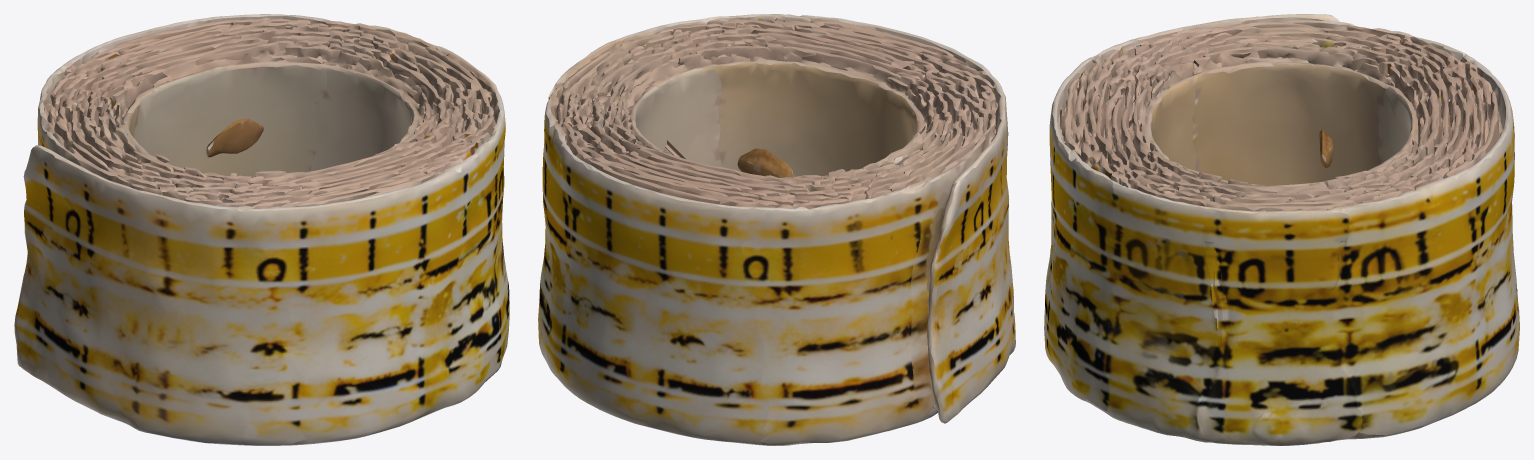
The model's file is simon.glb.
3 views of the same model, side by side, from view 1: azimuth 30°, elevation 25°; view 2: azimuth 150°, elevation 25°; view 3: azimuth 270°, elevation 25° (orthographic).
Parts seen in each view (by area): view 1: tmpvfwqe6b2.ply; view 2: tmpvfwqe6b2.ply; view 3: tmpvfwqe6b2.ply.
Part boxes in pixels (x1,y1,x2,y2): tmpvfwqe6b2.ply: (14, 14, 509, 445); tmpvfwqe6b2.ply: (538, 14, 1015, 445); tmpvfwqe6b2.ply: (1044, 14, 1519, 445).
Bounding box in the file's own units: 1.97 × 1.08 × 1.95.
Materials: 1 (1 with a texture image).
